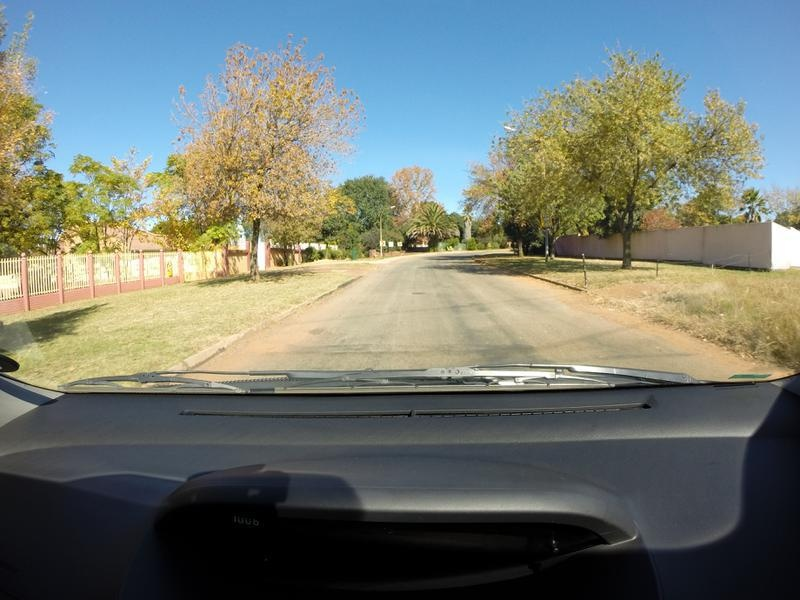pothole: (414, 289, 427, 296)
